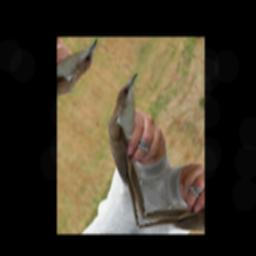Cuckoo: (75, 68, 195, 228)
